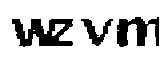m: (116, 14, 160, 50)
v: (77, 17, 113, 48)
w: (7, 15, 55, 52)
z: (53, 16, 75, 50)
